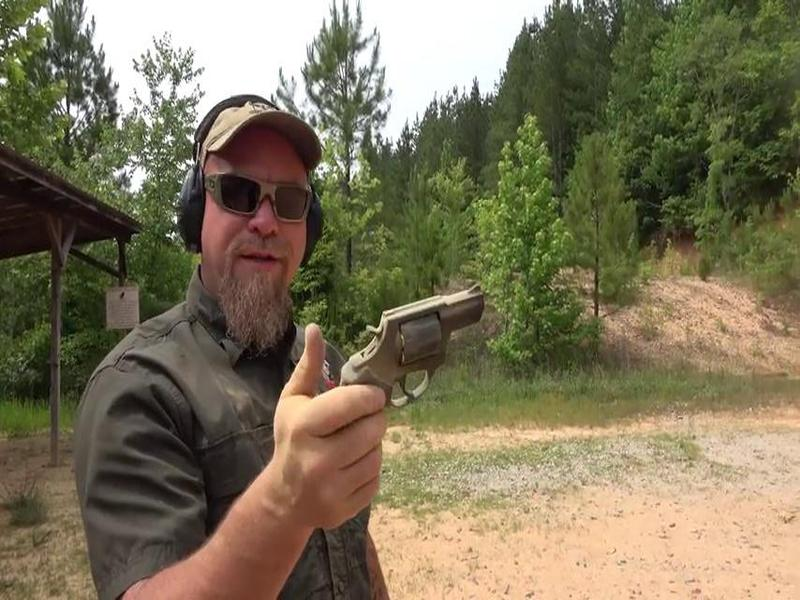Revolver: (333, 278, 493, 413)
